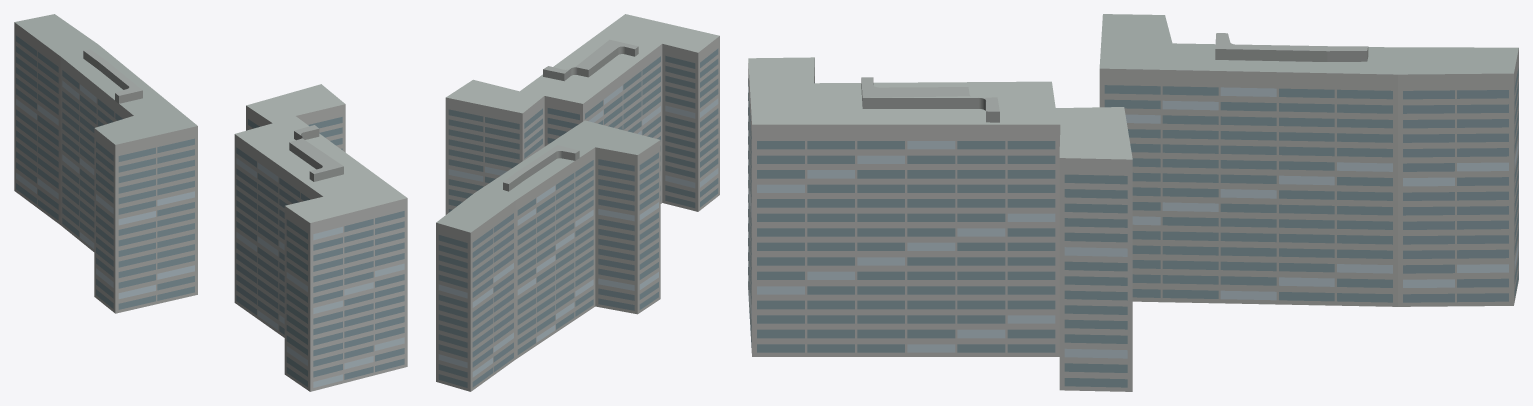
Rendered from apt-a12281702.glb.
3 views of the same model, side by side, from view 1: azimuth 30°, elevation 25°; view 2: azimuth 150°, elevation 25°; view 3: azimuth 270°, elevation 25° (orthographic). The views are drawn at different scales.
Parts seen in each view (by area): view 1: apt-a12281702; view 2: apt-a12281702; view 3: apt-a12281702.
Part boxes in pixels (<box>): apt-a12281702: <box>14,14,407,391</box>; apt-a12281702: <box>436,14,719,391</box>; apt-a12281702: <box>748,14,1518,391</box>.
Bounding box in the file's own units: 56.5 × 44 × 126.
